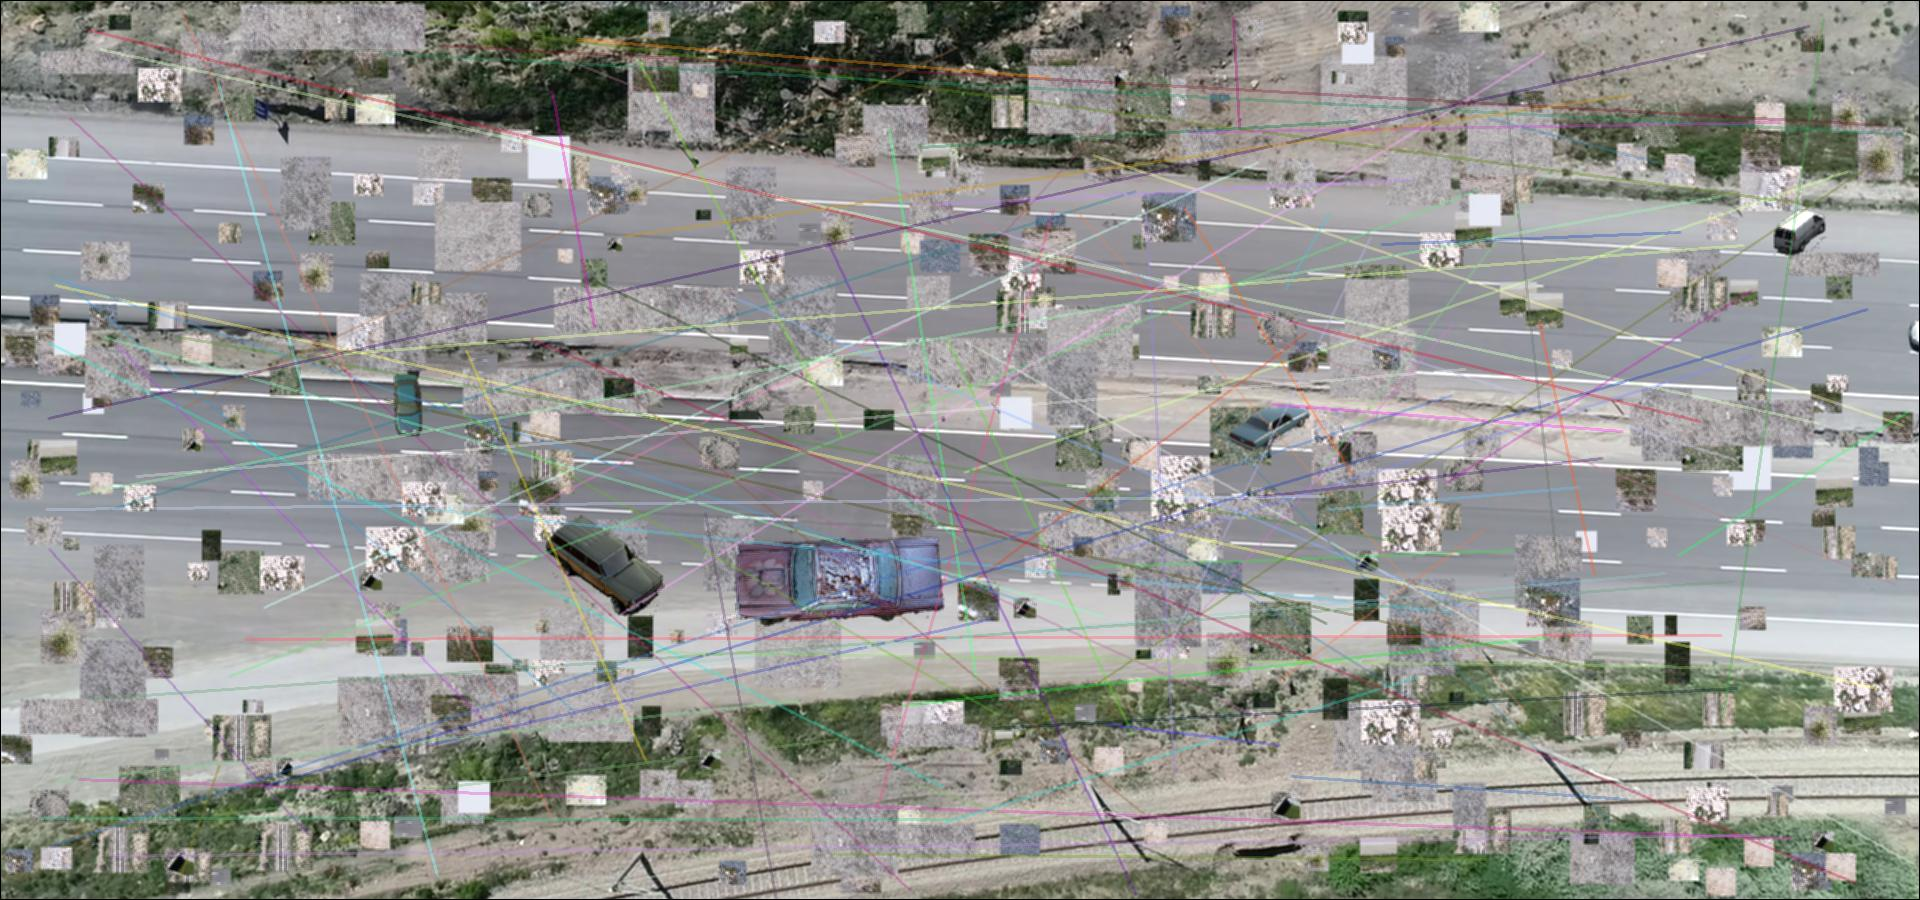arac: (730, 534, 944, 626), (544, 516, 665, 616), (1224, 403, 1311, 451), (1774, 211, 1826, 255), (393, 373, 422, 436)
